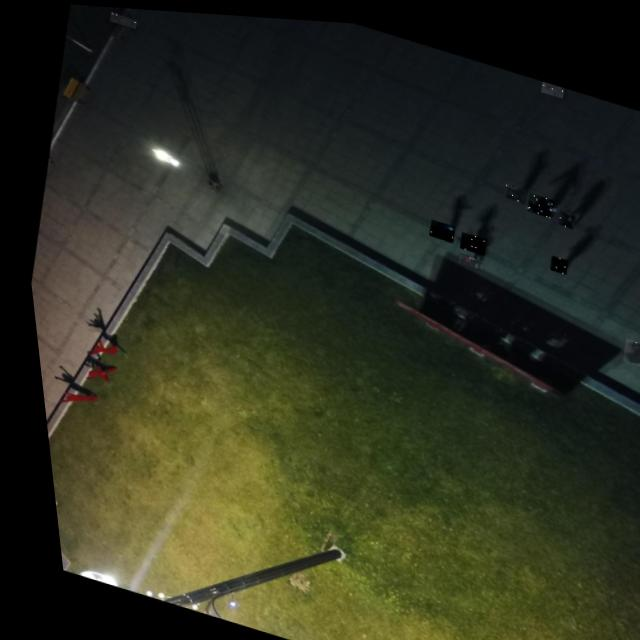Person: (522, 184, 554, 211), (613, 328, 640, 358), (453, 224, 483, 248), (423, 212, 452, 236), (499, 175, 523, 196), (109, 10, 137, 26), (538, 73, 564, 90), (552, 200, 572, 220), (543, 247, 564, 266), (452, 247, 477, 262)
